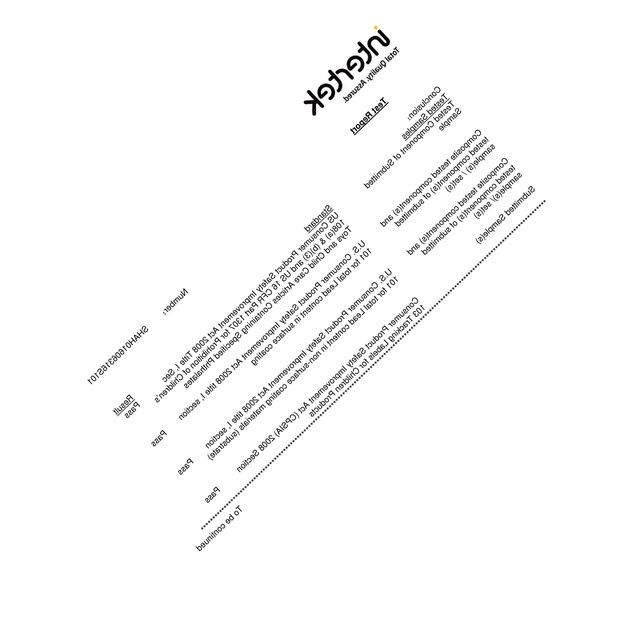intertek: (302, 23, 392, 117)
